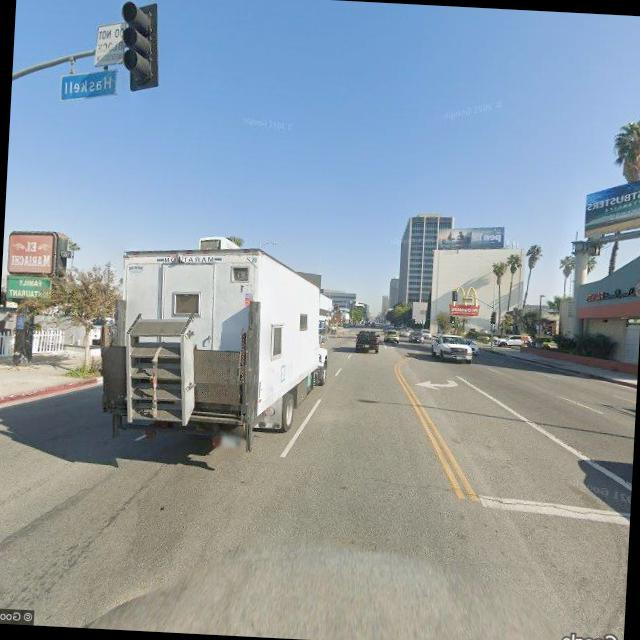crack: (392, 478, 632, 528)
